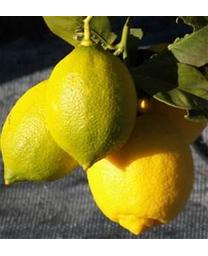lemon: (87, 109, 197, 237), (46, 45, 138, 172), (1, 79, 79, 185)
